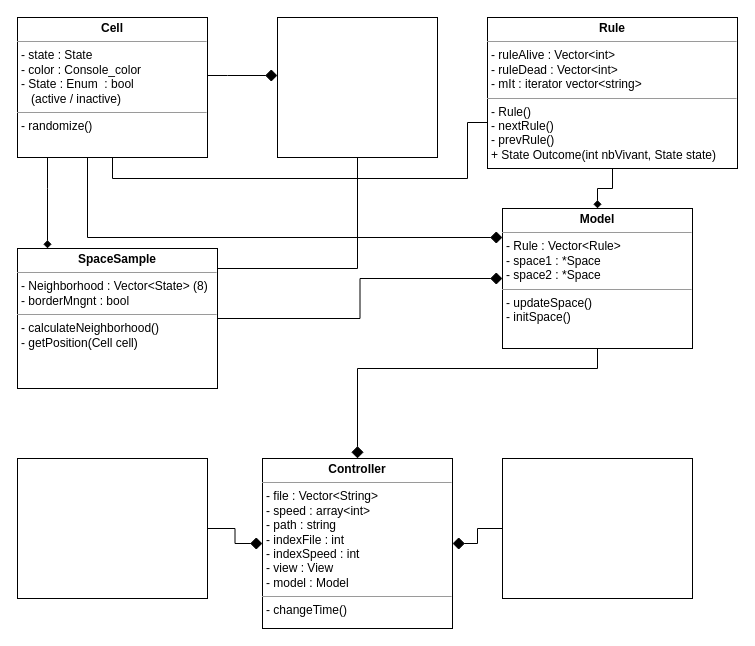
The diagram is 755 pixels wide and 646 high, and some of its shapes have lost their labels. The shapes that lost their labels are listed below. From the top down, each one's centre as x and y in pixels, then its label:
At pixel 357 87: "Space - space : Vector<State> - width : int - height : int - randomize()".
At pixel 112 528: "Lecteur RLE + +".
At pixel 597 528: "Vue - console : Console - colorBg : string - colorFg: string +".
